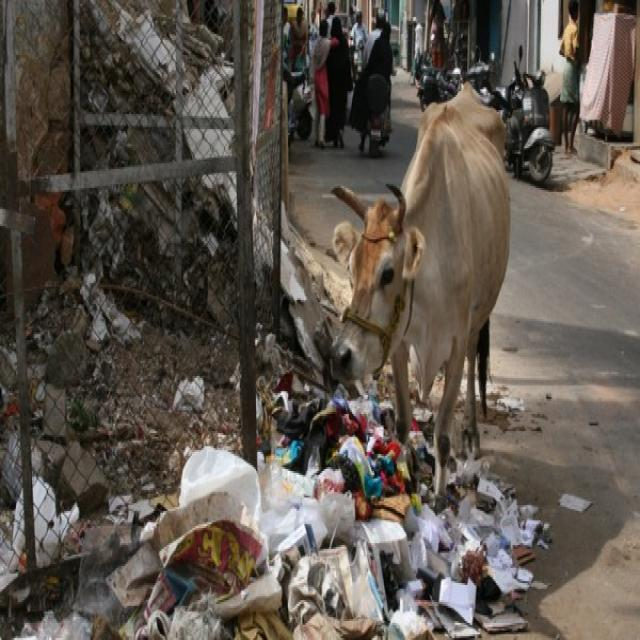garbage: (0, 279, 640, 640)
